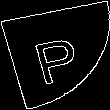P_N: (26, 26, 84, 84)
